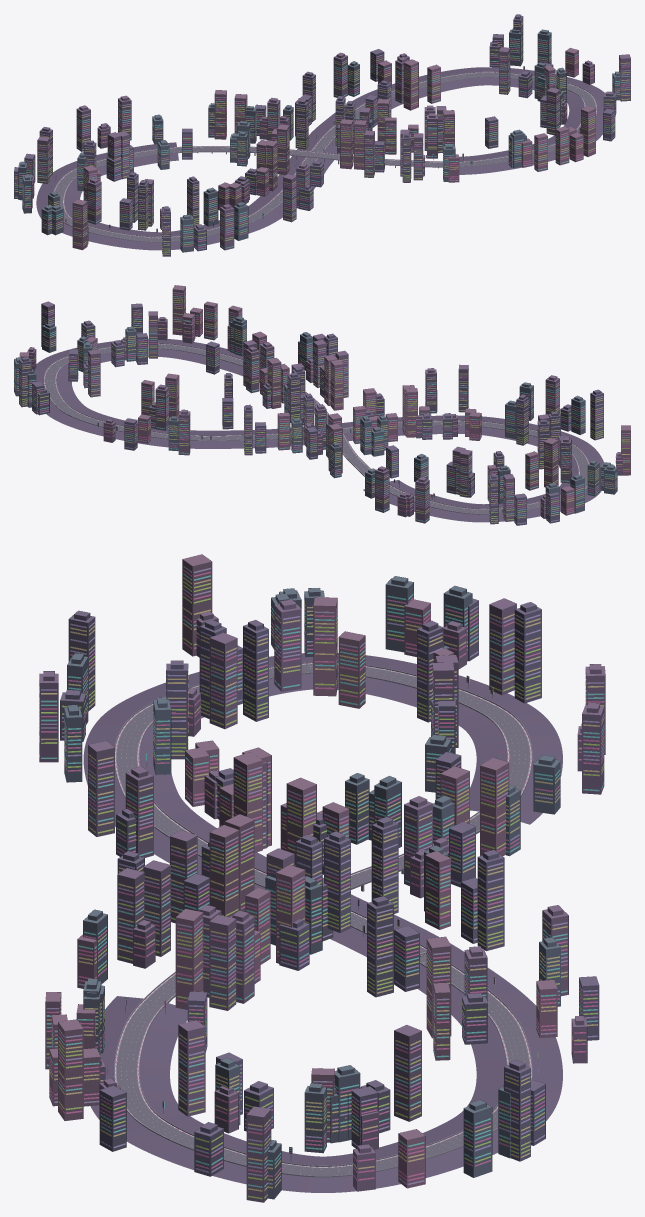
File: track_3.glb
3 renders of one model, top to bottom at view 1: azimuth 30°, elevation 25°; view 2: azimuth 150°, elevation 25°; view 3: azimuth 270°, elevation 25°, orthographic. The views are drawn at different scales.
Parts seen in each view (by area): view 1: chunk_2, chunk_4, chunk_5, chunk_3, chunk_1, chunk_0, chunk_6; view 2: chunk_4, chunk_0, chunk_3, chunk_1, chunk_5, chunk_2, chunk_6; view 3: chunk_4, chunk_2, chunk_1, chunk_0, chunk_5, chunk_3, chunk_6.
Part boxes in pixels (bbox=[...]): chunk_2: bbox=[296, 99, 547, 182]; chunk_4: bbox=[14, 127, 180, 256]; chunk_5: bbox=[171, 124, 329, 252]; chunk_3: bbox=[58, 90, 299, 181]; chunk_1: bbox=[518, 29, 630, 165]; chunk_0: bbox=[302, 14, 530, 127]; chunk_6: bbox=[283, 94, 345, 164]; chunk_4: bbox=[474, 389, 630, 525]; chunk_0: bbox=[19, 349, 252, 455]; chunk_3: bbox=[304, 404, 478, 523]; chunk_1: bbox=[14, 285, 219, 396]; chunk_5: bbox=[342, 364, 585, 446]; chunk_2: bbox=[199, 305, 348, 425]; chunk_6: bbox=[252, 372, 314, 453]; chunk_4: bbox=[68, 554, 543, 736]; chunk_2: bbox=[45, 814, 333, 1074]; chunk_1: bbox=[49, 1014, 492, 1202]; chunk_0: bbox=[367, 850, 599, 1161]; chunk_5: bbox=[39, 653, 352, 895]; chunk_3: bbox=[317, 654, 605, 898]; chunk_6: bbox=[324, 816, 477, 962].
Size of what is drawn, in the model's own units: 1118 by 98.55 by 473.
